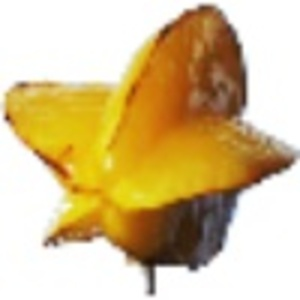carambola: (1, 2, 299, 293)
